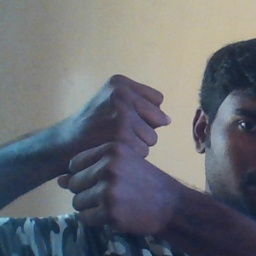G: (61, 69, 173, 243)
